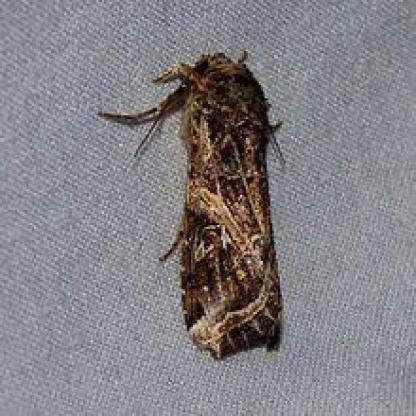armyworm: (97, 50, 309, 360)
